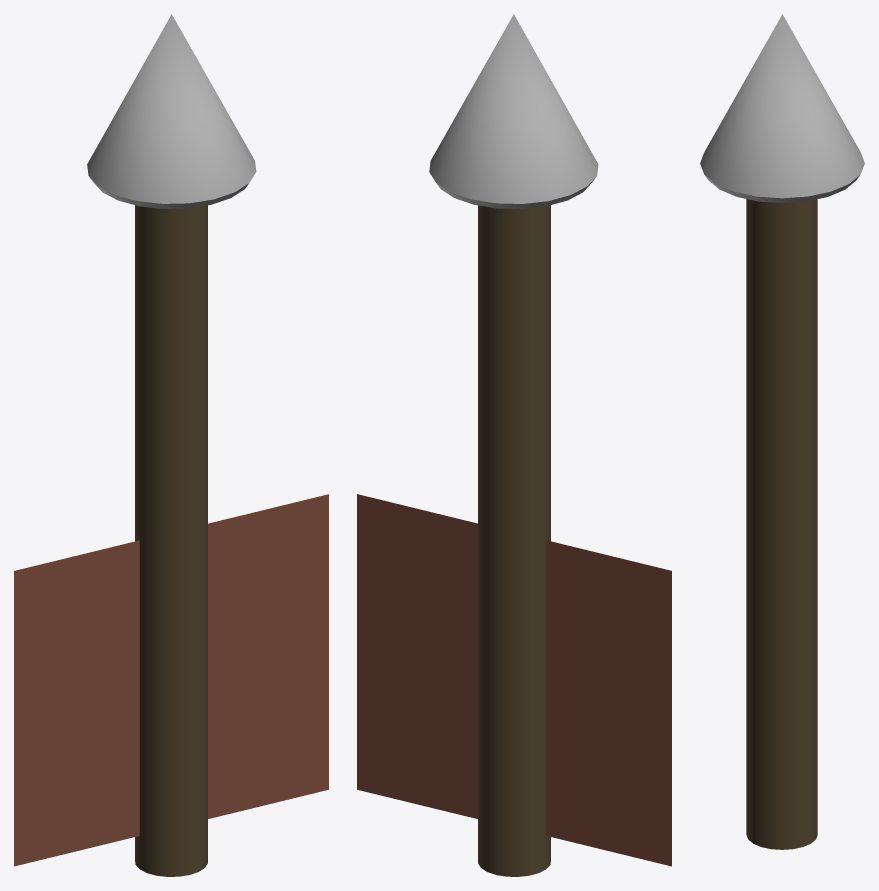
Rendered from PR_Arrow_01.fbx.
The picture shows the model from 3 angles, left to right: view 1: azimuth 30°, elevation 25°; view 2: azimuth 150°, elevation 25°; view 3: azimuth 270°, elevation 25°; orthographic projection. The views are drawn at different scales.
Visible parts, largest first — view 1: pPlane1, pCylinder1, pCone1; view 2: pPlane1, pCylinder1, pCone1; view 3: pCylinder1, pCone1.
Part boxes in pixels (bbox=[...]): pPlane1: bbox=[14, 494, 328, 866]; pCylinder1: bbox=[135, 205, 207, 876]; pCone1: bbox=[87, 14, 256, 208]; pPlane1: bbox=[357, 494, 671, 866]; pCylinder1: bbox=[478, 205, 550, 876]; pCone1: bbox=[429, 14, 598, 208]; pCylinder1: bbox=[746, 199, 817, 849]; pCone1: bbox=[700, 14, 864, 203].
Bounding box in the file's own units: 16.49 × 42.41 × 7.72.
